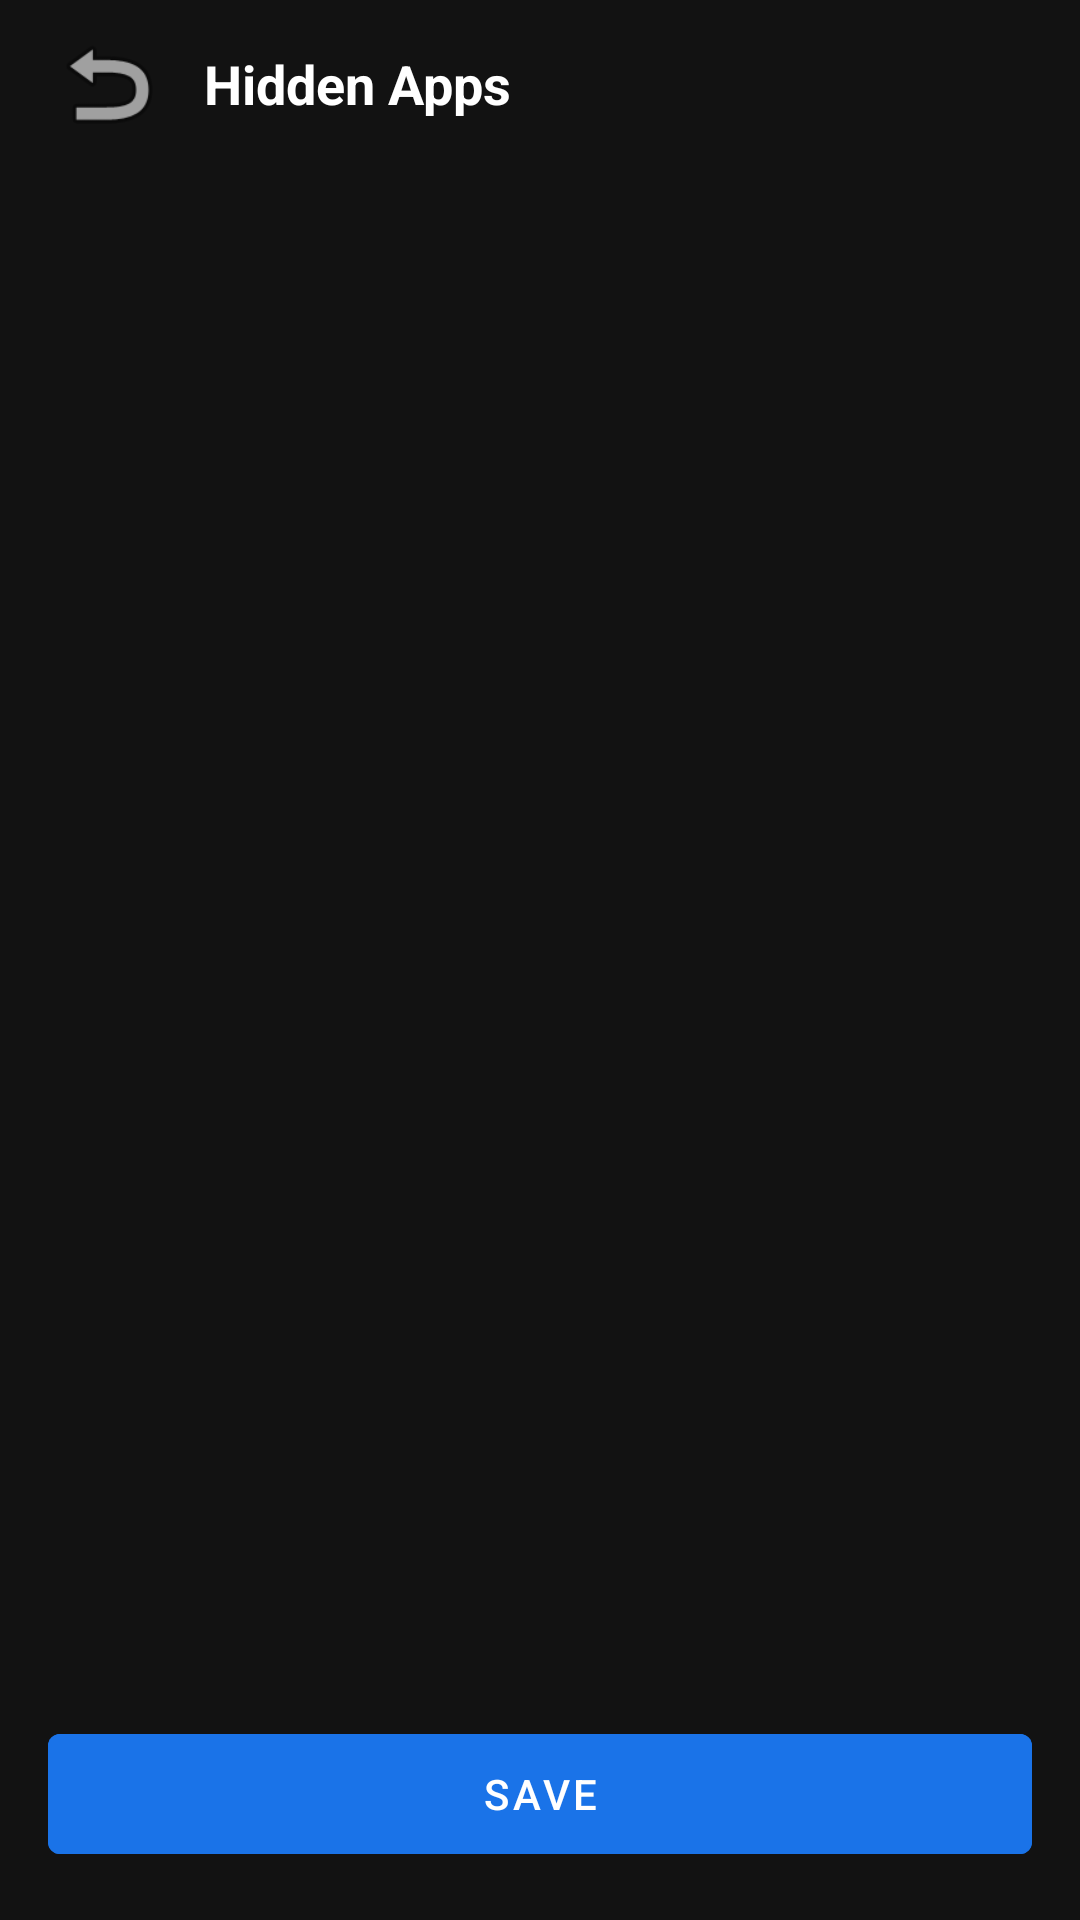

Icons on this 1080×1920 Android screen, each with its box as (x1,y1,x2,y2):
revert: (70,49,149,120)
